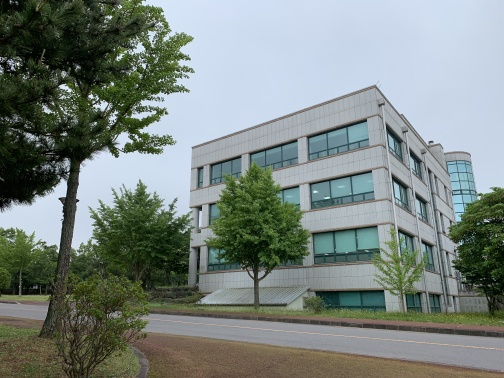Second Library: (185, 91, 484, 327)
